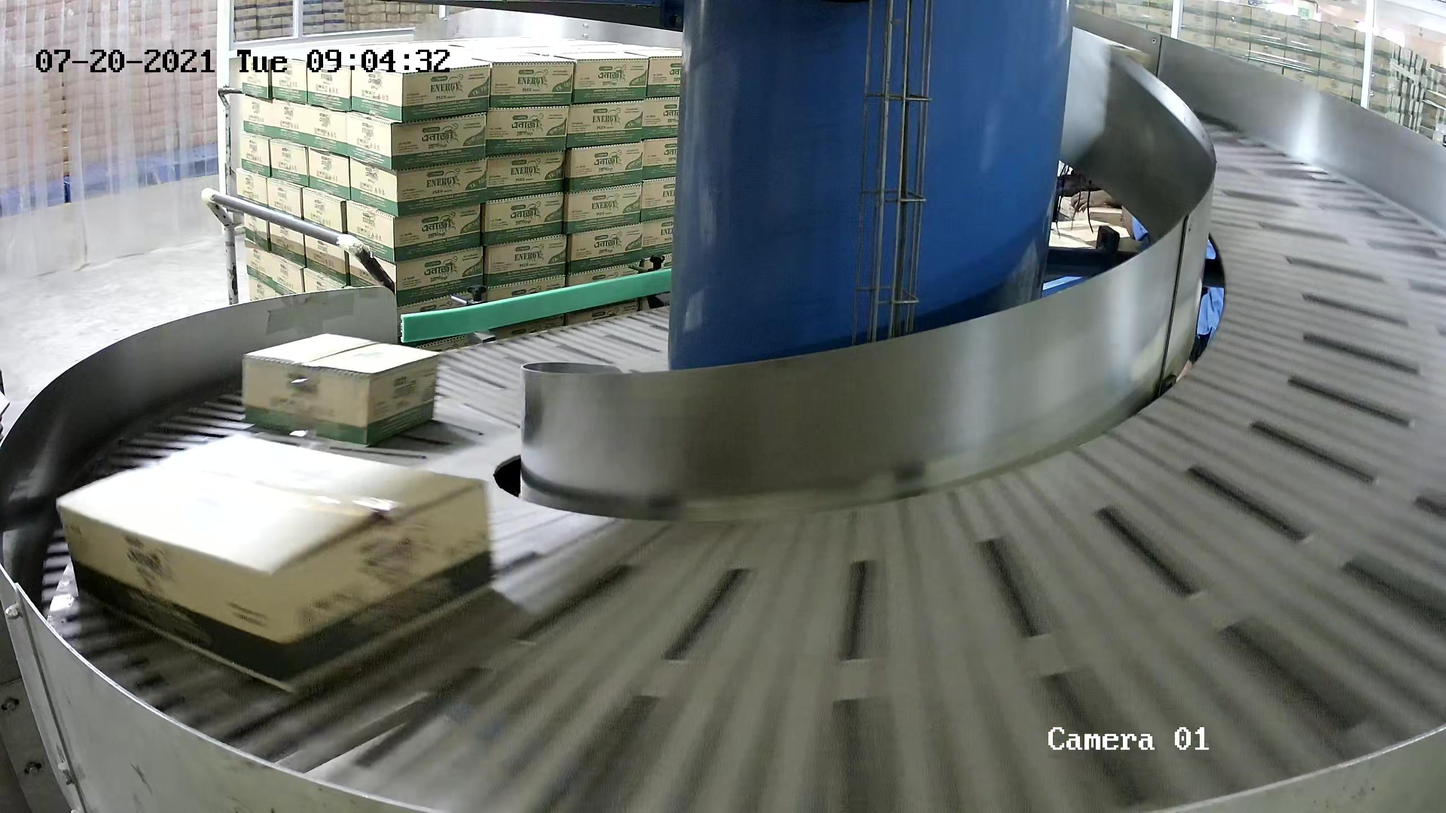Box: (55, 429, 498, 695), (241, 331, 440, 448)
